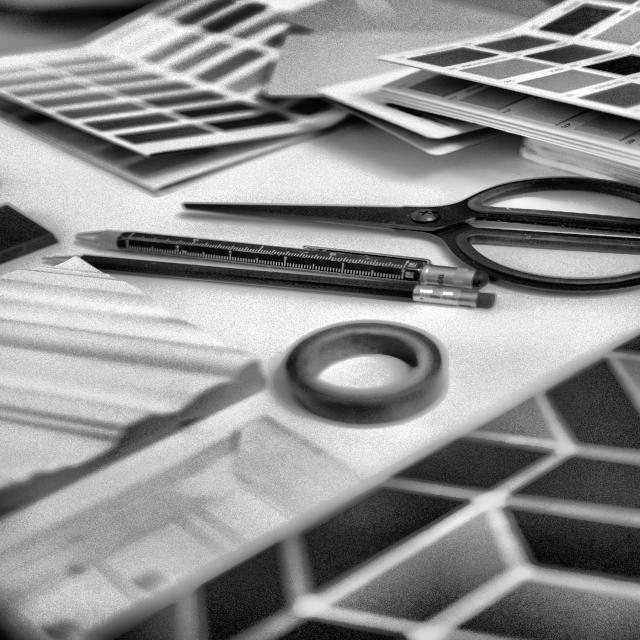Pen: (73, 225, 498, 292)
